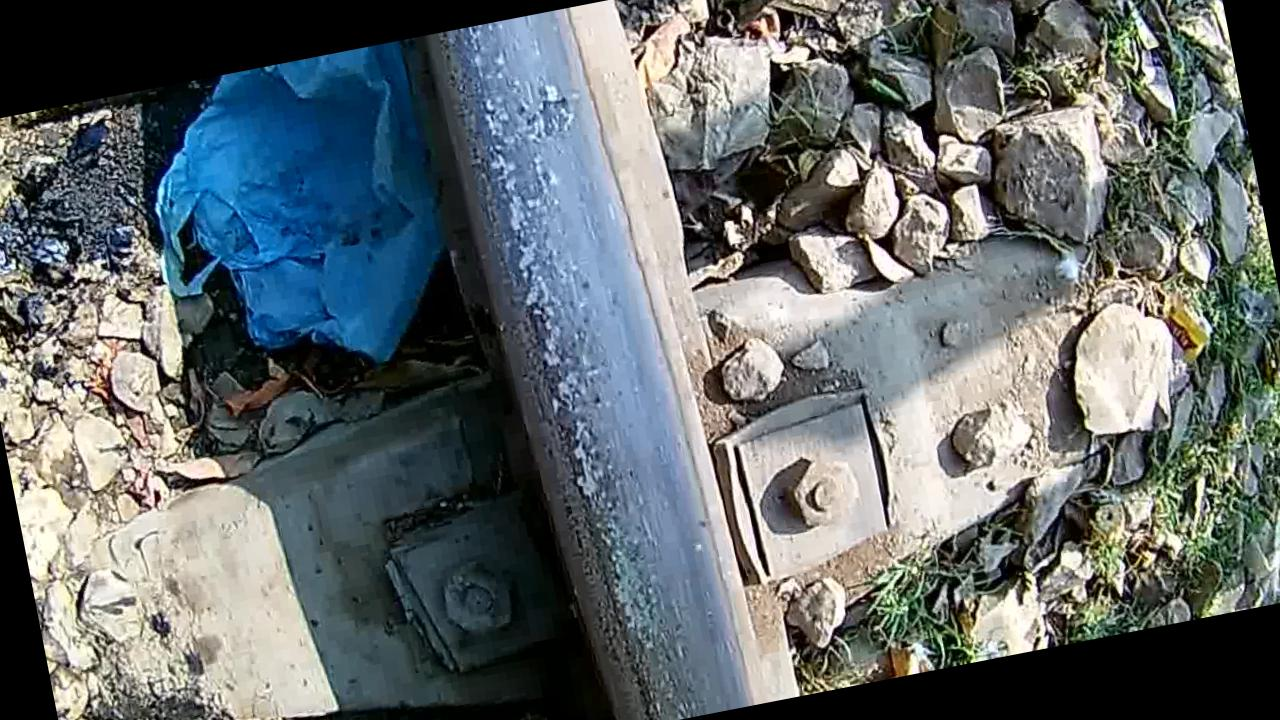crack: (428, 7, 719, 720)
